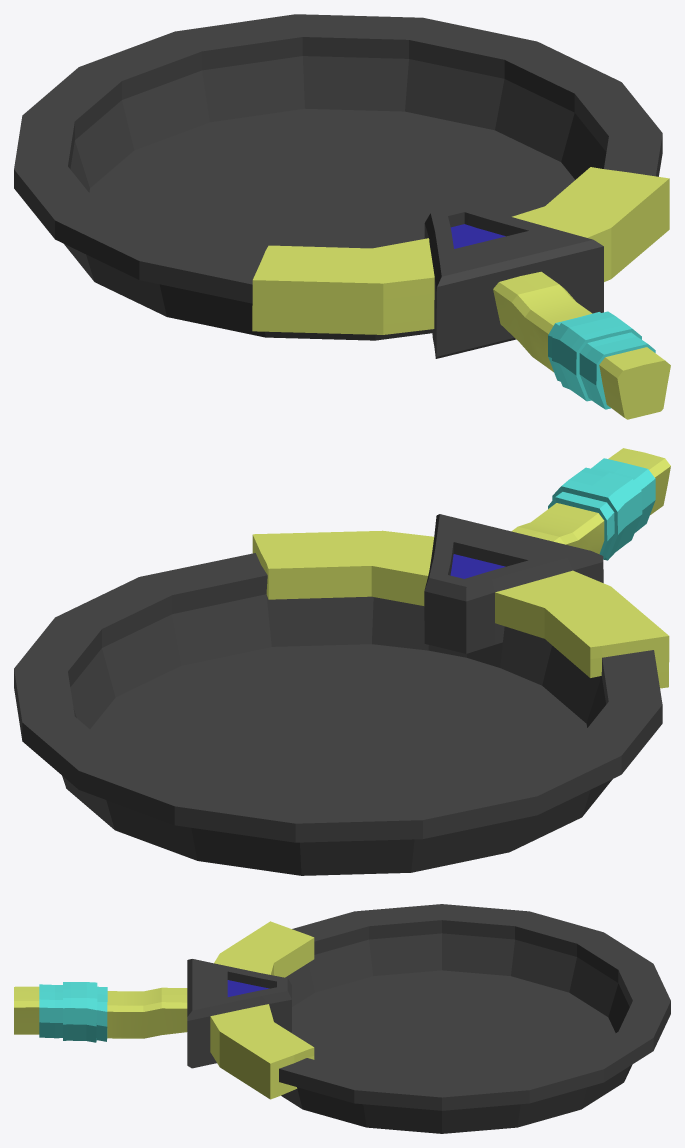
File: POT.fbx
The picture shows the model from 3 angles, top to bottom: view 1: azimuth 30°, elevation 25°; view 2: azimuth 150°, elevation 25°; view 3: azimuth 270°, elevation 25°; orthographic projection. The views are drawn at different scales.
Visible parts, largest first — view 1: 平底锅.001; view 2: 平底锅.001; view 3: 平底锅.001.
Part boxes in pixels (box(x1,y1,x2,y2)): 平底锅.001: box(14, 14, 670, 419); 平底锅.001: box(14, 448, 670, 875); 平底锅.001: box(14, 904, 670, 1133).
Size of the model in its own units: 133 by 191 by 21.25.
